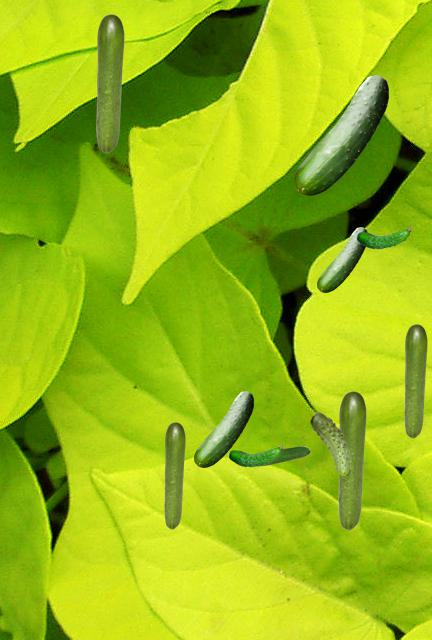cucumber: (294, 75, 387, 194), (194, 391, 252, 466), (338, 391, 365, 529), (96, 14, 123, 152), (317, 227, 366, 291), (404, 324, 426, 437), (310, 412, 350, 474), (164, 422, 184, 528), (228, 443, 282, 466), (356, 225, 410, 248), (264, 446, 309, 465)
